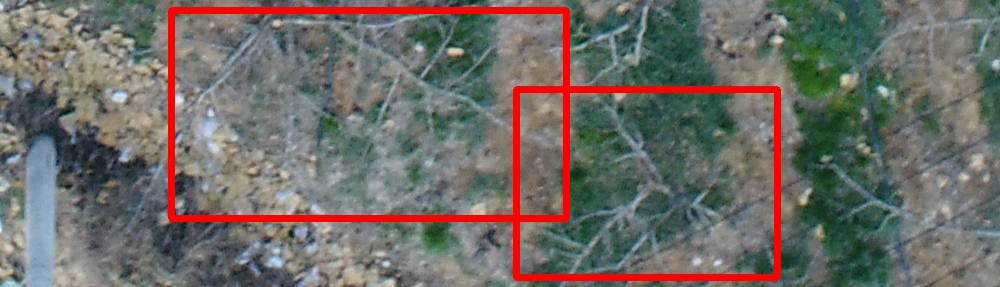apple: (171, 10, 566, 218), (516, 89, 777, 277)
